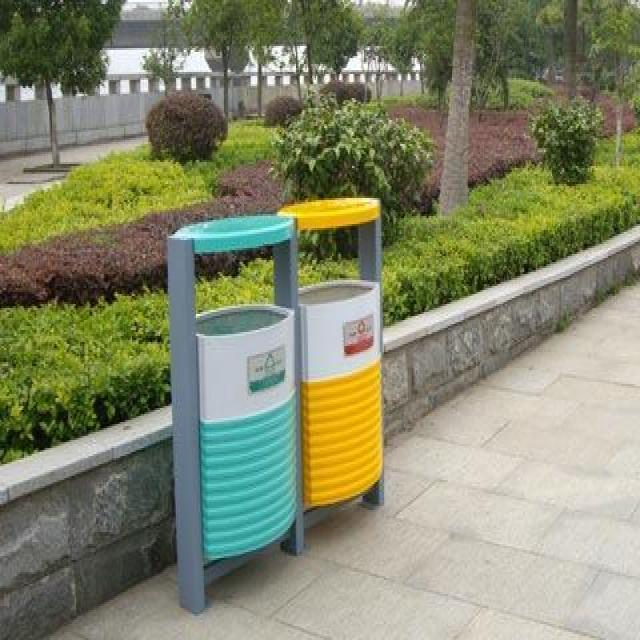garbage_bin: (167, 194, 380, 614)
